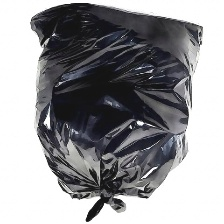plastic_bag: (26, 2, 206, 222)
